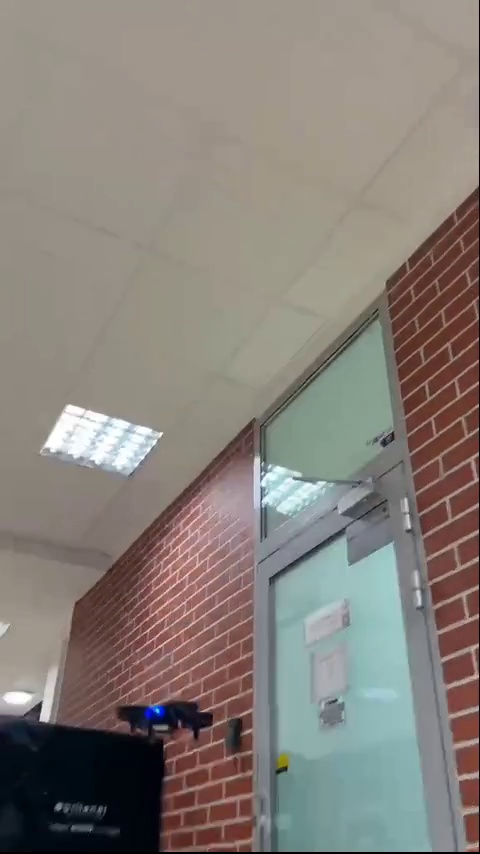drone: (117, 698, 213, 740)
